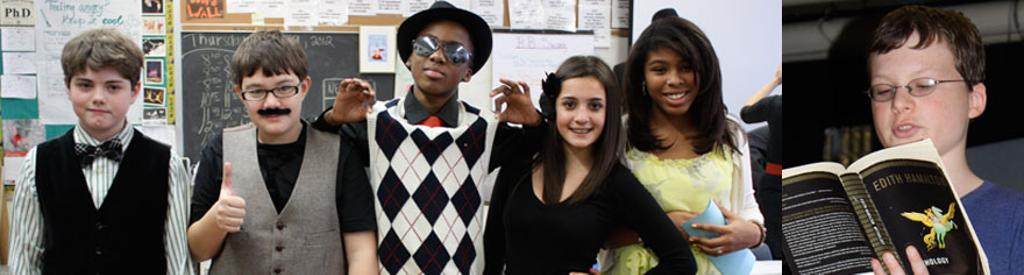face: (869, 27, 967, 160), (69, 60, 131, 129), (410, 23, 468, 92), (243, 66, 301, 134), (645, 44, 699, 114), (556, 79, 605, 146)
